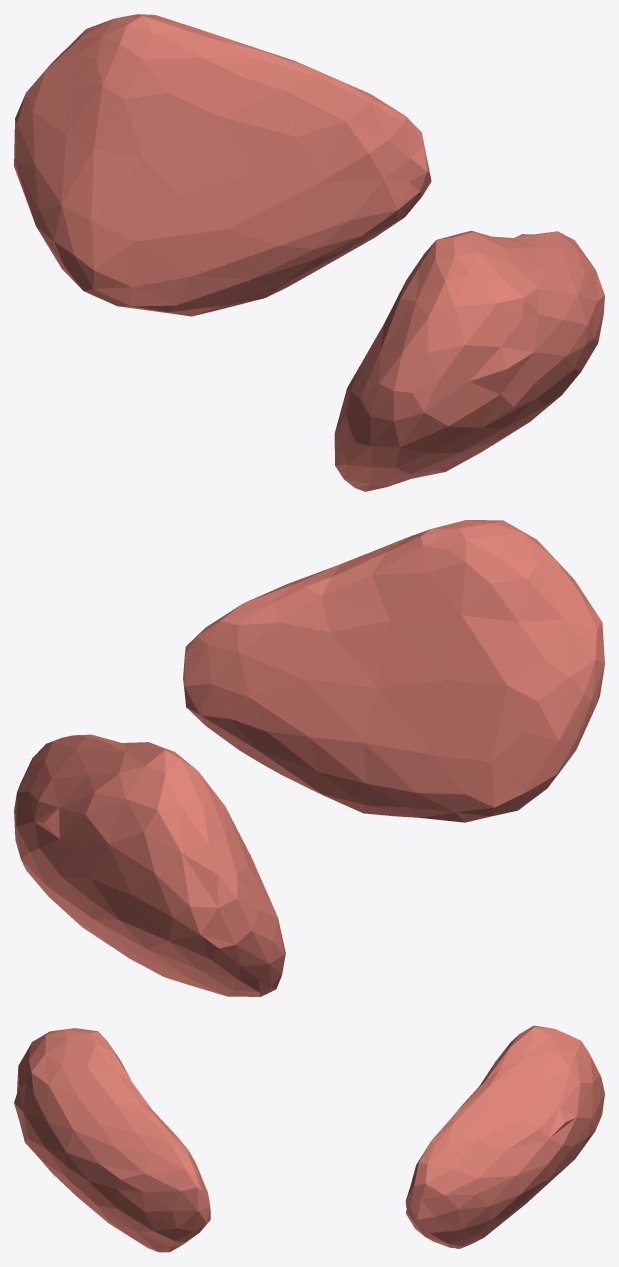
3 renders of one model, top to bottom at view 1: azimuth 30°, elevation 25°; view 2: azimuth 150°, elevation 25°; view 3: azimuth 270°, elevation 25°, orthographic. The views are drawn at different scales.
Visible parts, largest first — view 1: 606826647.obj; view 2: 606826647.obj; view 3: 606826647.obj.
Boxes of the visible parts, x1,y1,x2,y2 form: 606826647.obj: [14, 14, 604, 491]; 606826647.obj: [14, 520, 604, 996]; 606826647.obj: [14, 1025, 604, 1252].
Bounding box in the file's own units: 733 × 589 × 1599.
